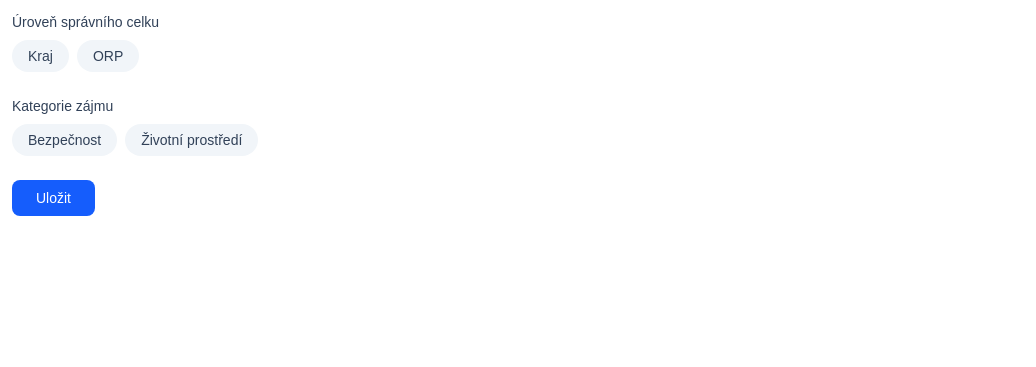
it: PreferencesForm › shows clear level button and clears selection
The width and height of the screenshot is (1036, 367).
Click the button with test id "level-kraj" at {"x": 40, "y": 56}, box [12, 40, 69, 72]
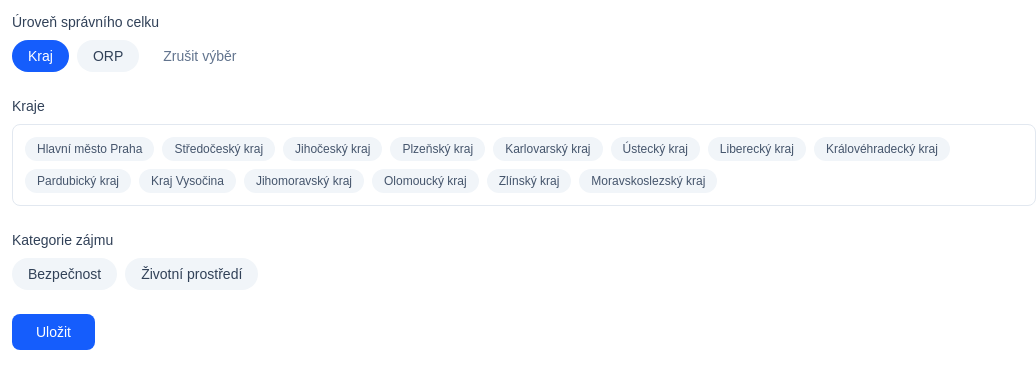
Now the button with test id "level-clear" is shown
Click the button with test id "level-clear" at {"x": 200, "y": 56}, box [147, 40, 252, 72]
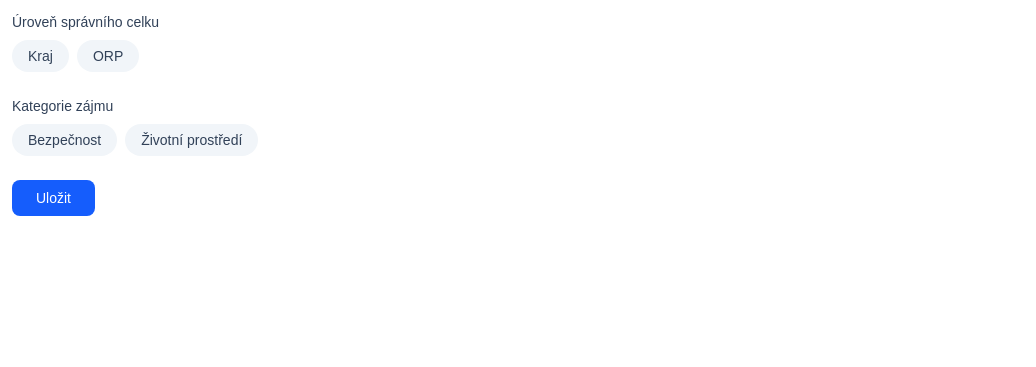
Now the element with test id "territory-list" is gone
